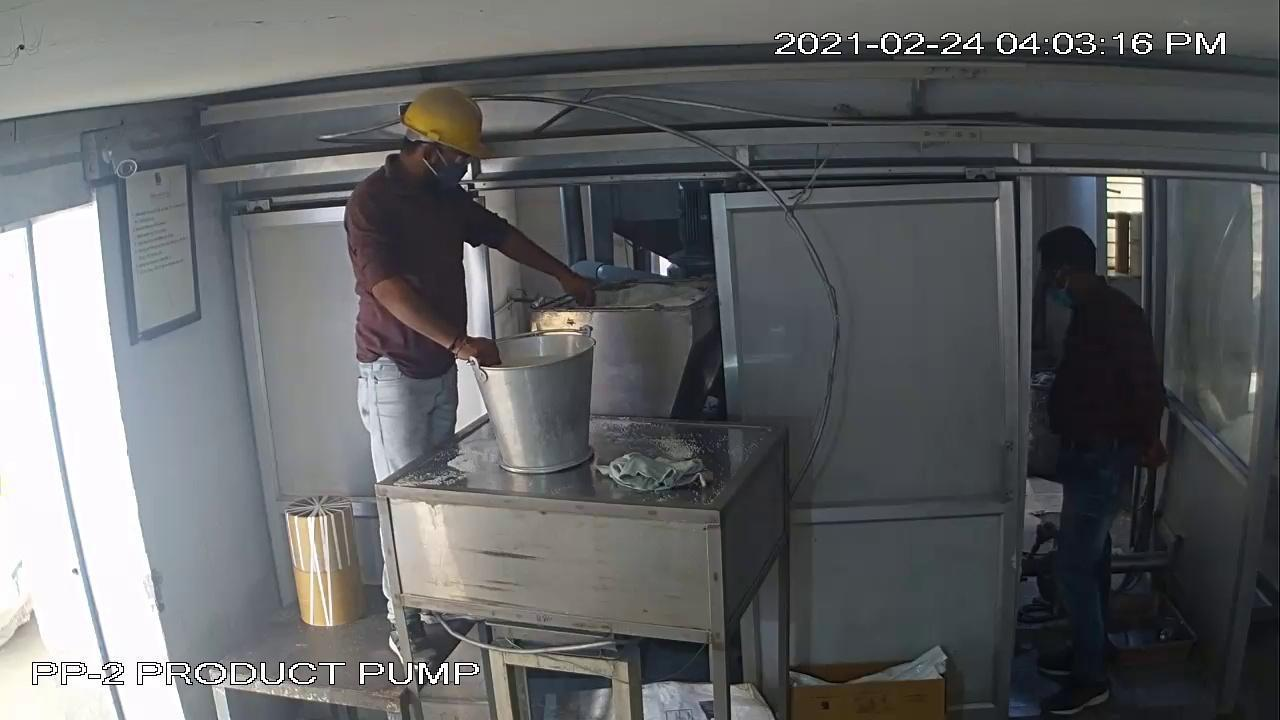helmet: (399, 81, 490, 154)
